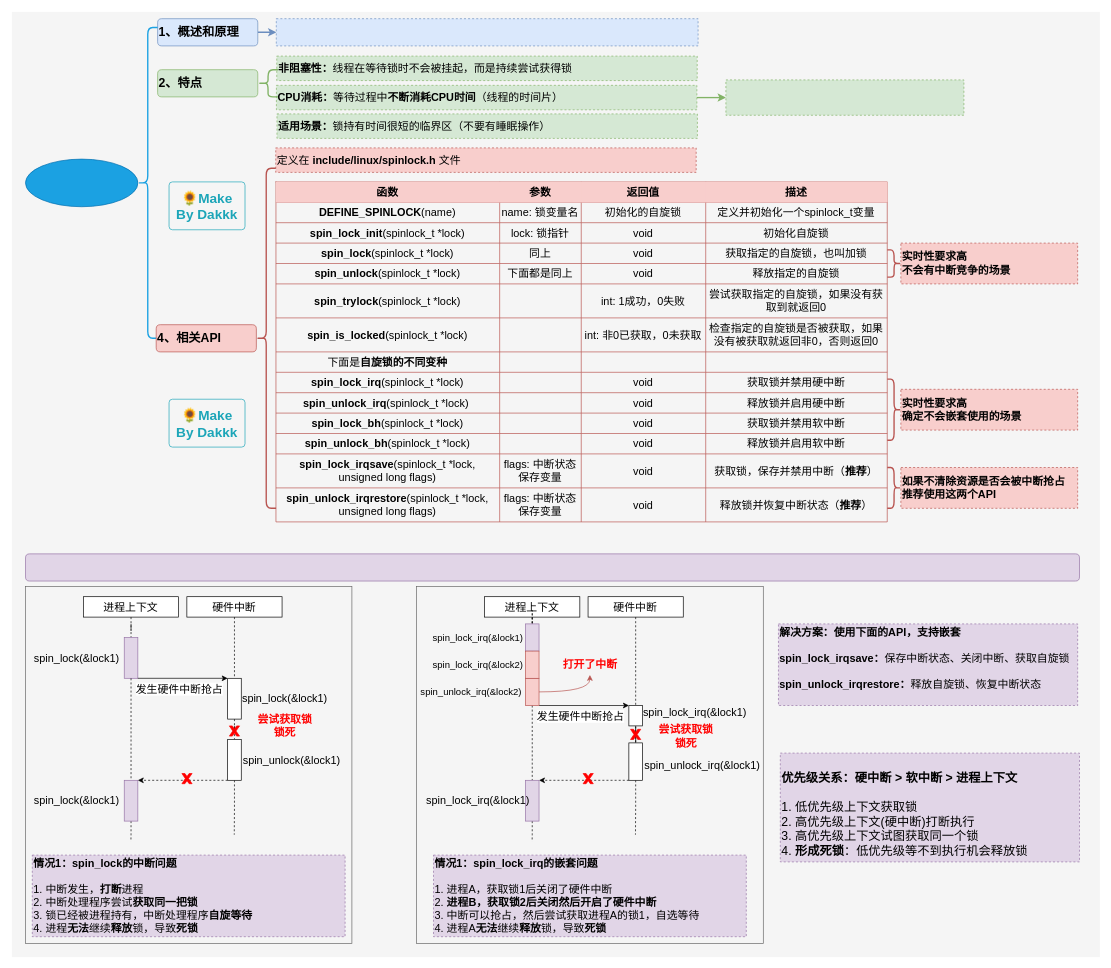
This 1111x968 diagram has some shape labels left out. Here are the shapes that lost their labels. From the top down, the centre of each, then its label:
At pixel 487 32: "保护共享资源的一种机制，一种非阻塞锁，可以保护复杂的代码段".
At pixel 844 97: "多余多进程场景，进程A锁住了 进程B、进程C就会不断消耗时间片等待A释放锁".
At pixel 81 182: "自旋锁".
At pixel 552 567: "自旋锁的死锁问题".
